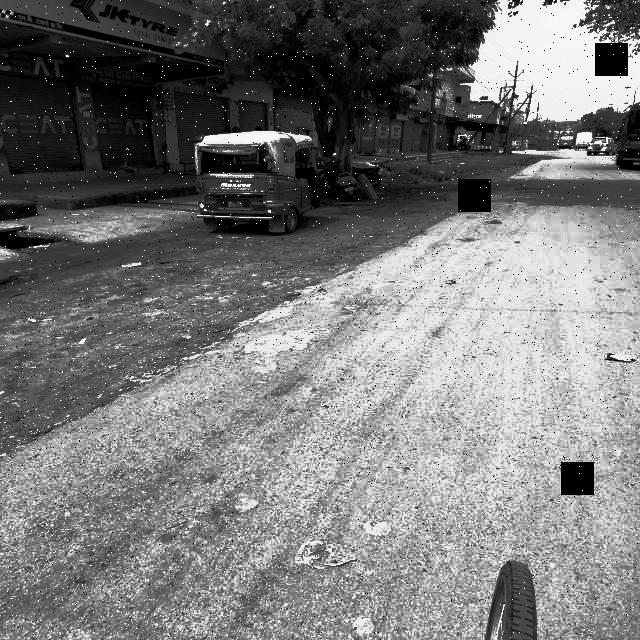Auto-Rickshaw: (182, 125, 333, 242)
